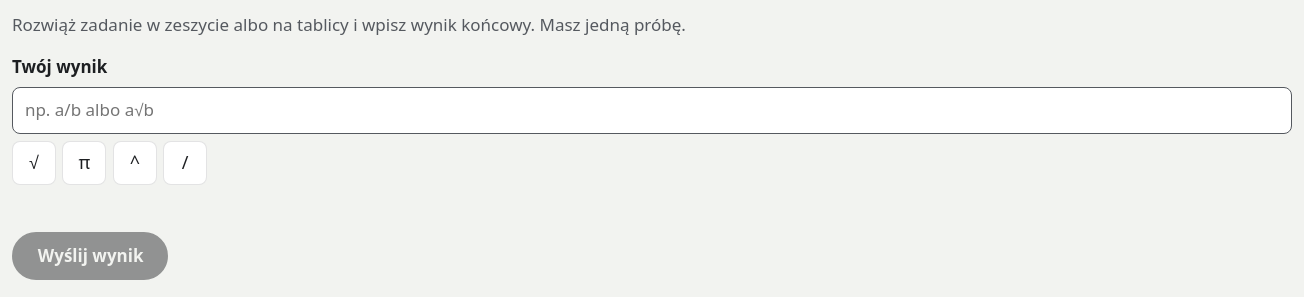
Scenario: OpenAnswer › inserts a sign where the cursor is
Type "23" into the field labelled "Twój wynik" at (652, 111), box [12,87,1292,134]
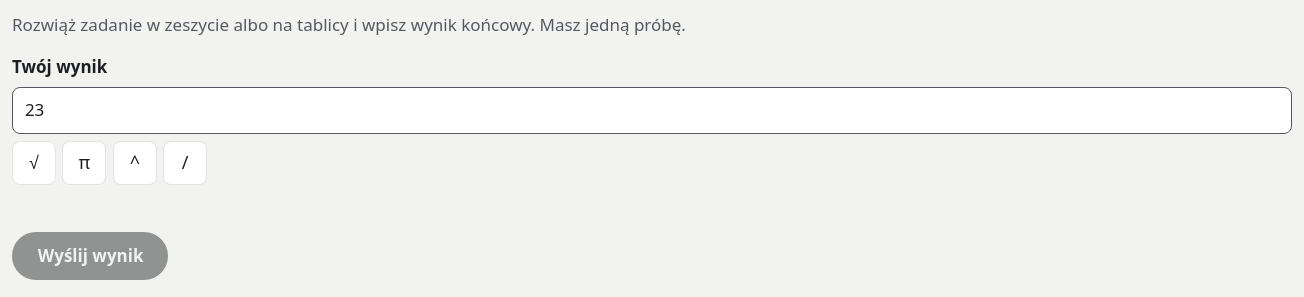
Click the button named "Wstaw √" at (34, 162), box [12,140,56,184]
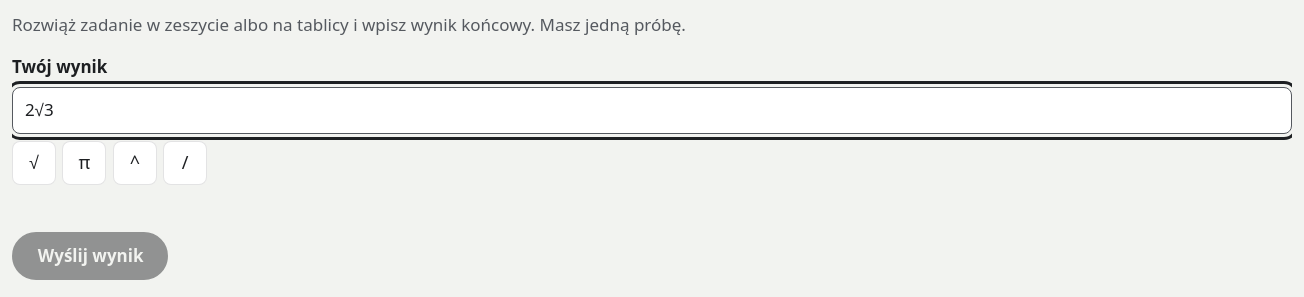
Result: the field labelled "Twój wynik" holds "2√3" at [12,87,1292,134]
